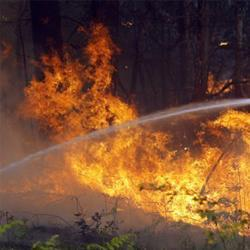fire: (109, 147, 240, 221), (39, 67, 113, 138)
